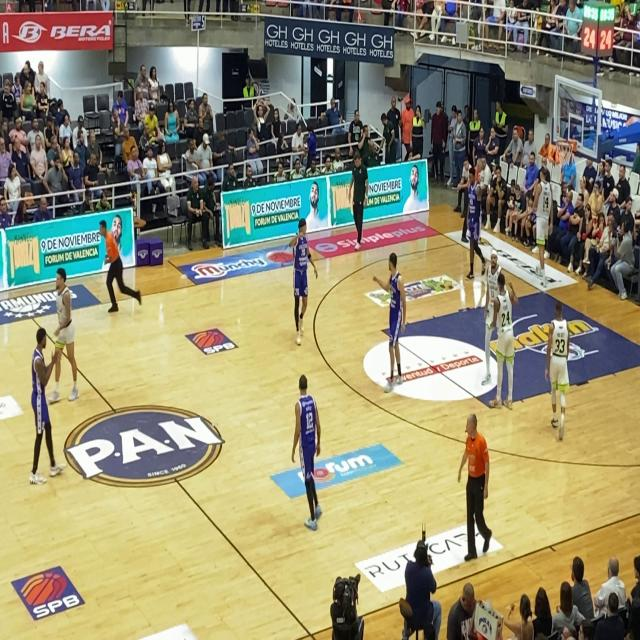referee: (458, 402, 506, 558)
team1: (44, 258, 78, 420), (491, 262, 522, 417), (542, 294, 574, 444)
team2: (283, 367, 323, 531), (22, 321, 58, 469), (375, 239, 406, 387), (286, 210, 319, 328)
ubasket: (556, 134, 576, 172)
